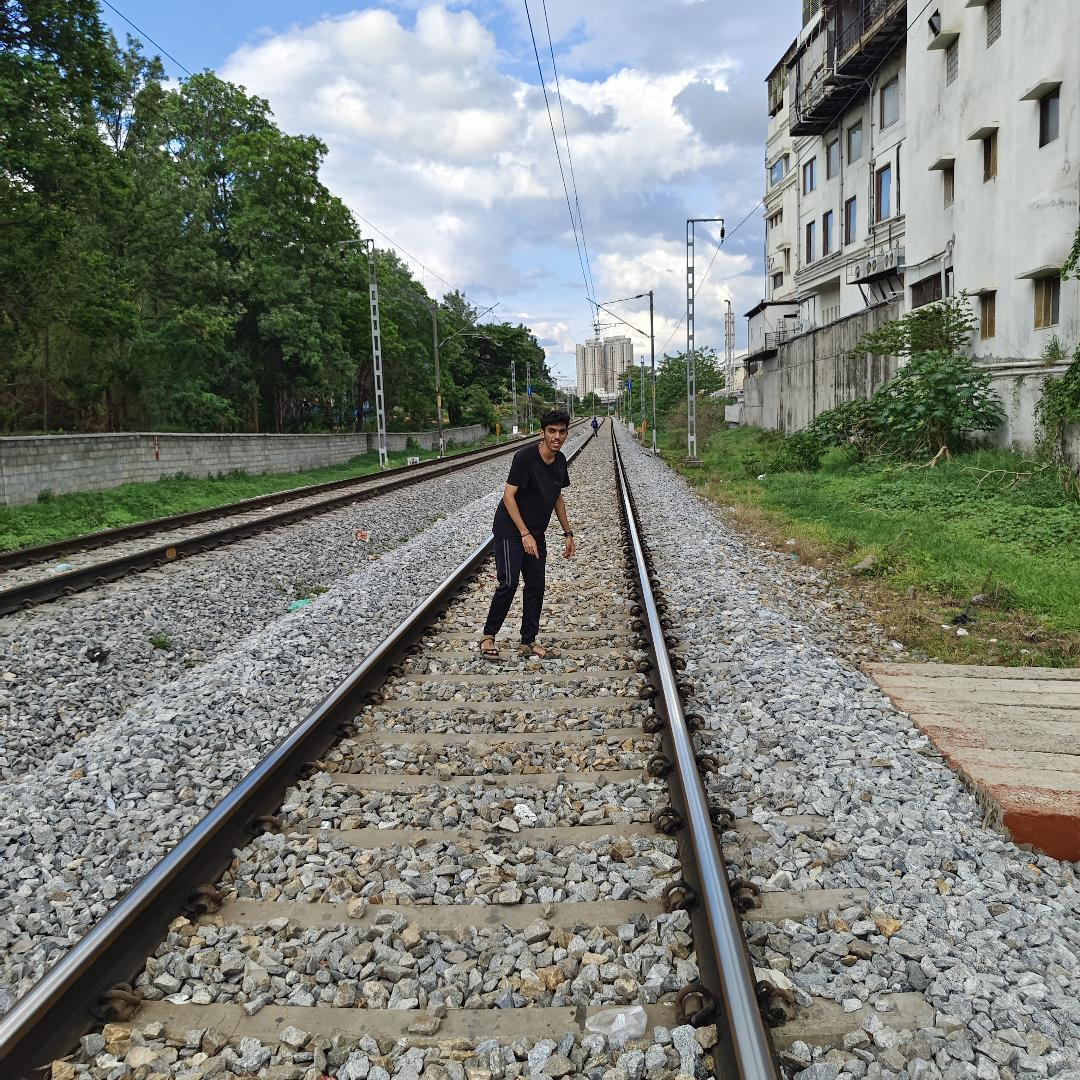standing: (470, 404, 590, 674)
